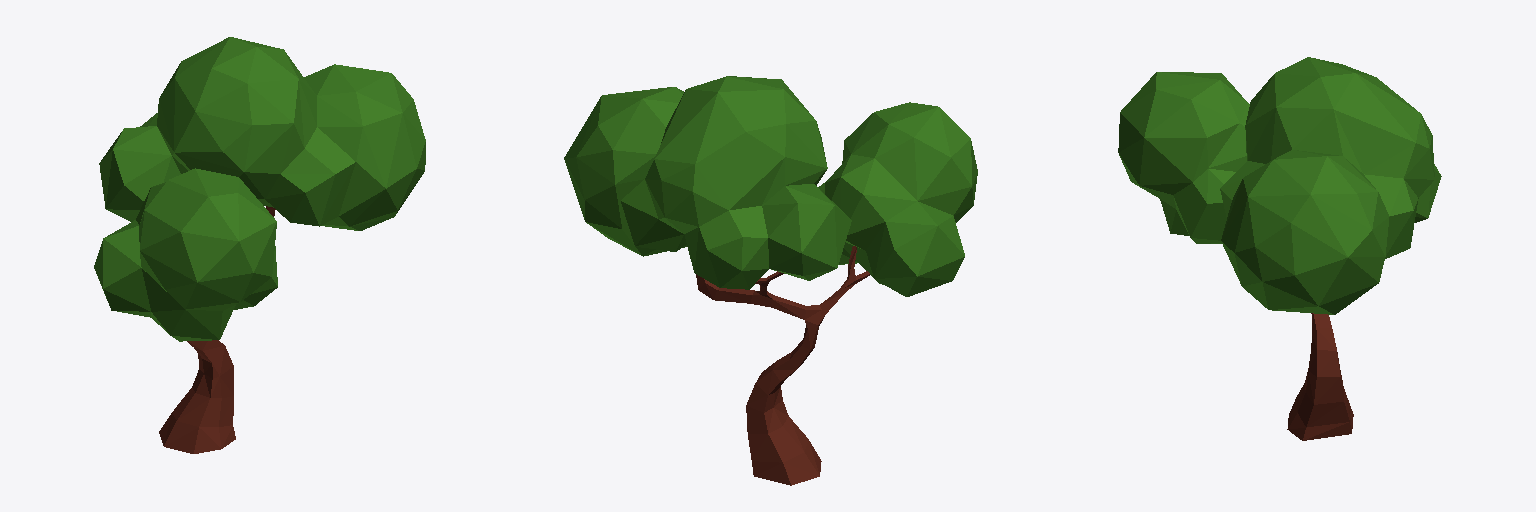
The model's file is Arbol1.obj.
The picture shows the model from 3 angles: view 1: azimuth 30°, elevation 25°; view 2: azimuth 150°, elevation 25°; view 3: azimuth 270°, elevation 25°; orthographic projection.
Visible parts, largest first — view 1: polySurface13; view 2: polySurface13; view 3: polySurface13.
Boxes of the visible parts, box(x1,y1,x2,y2) form: polySurface13: box(94, 37, 425, 453); polySurface13: box(564, 76, 977, 485); polySurface13: box(1118, 57, 1441, 440).
Size of the model in its own units: 4.16 by 4.3 by 3.33.